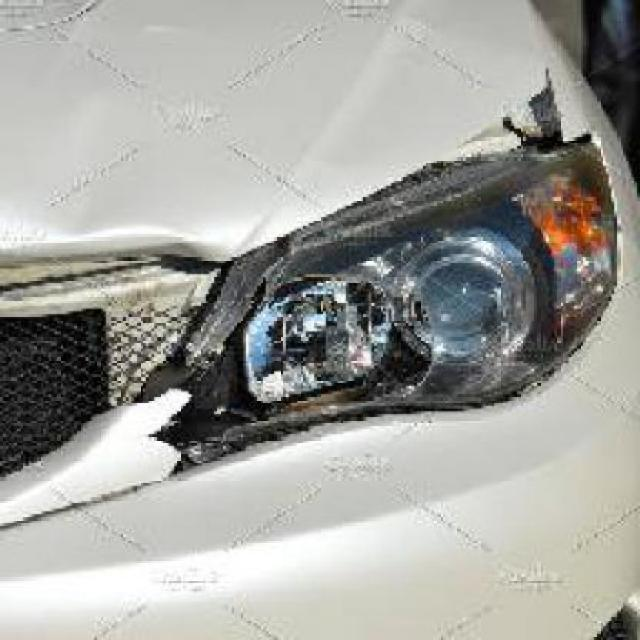damaged-head-light: (213, 126, 604, 434)
